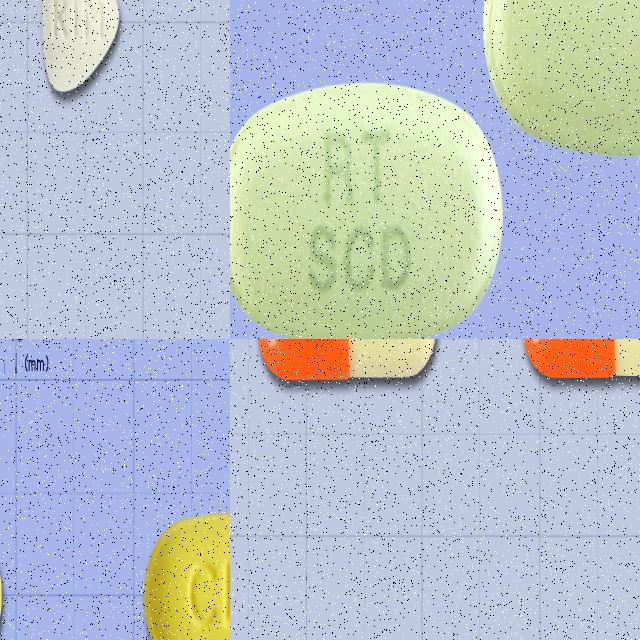Kimara: (42, 0, 120, 93)
Minocin Cap: (257, 339, 437, 382), (520, 339, 640, 379)
Revloxin Tab: (230, 80, 502, 339), (482, 0, 640, 158)
Rulid Tab: (142, 510, 230, 640)
